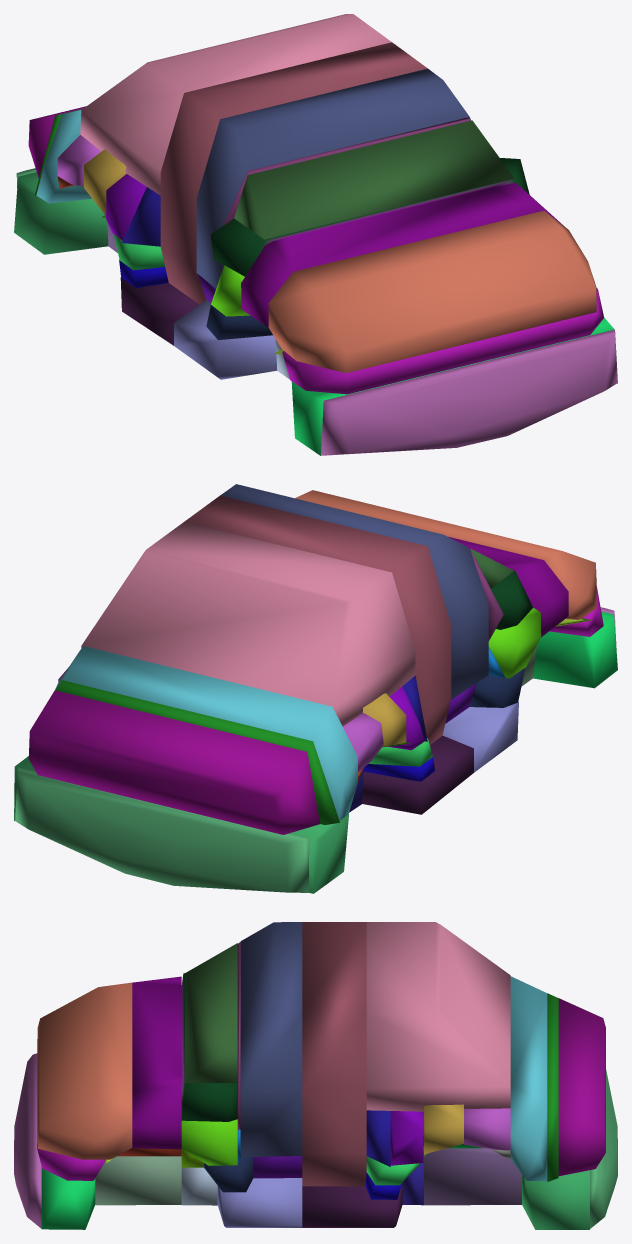
The model's file is sedan-sports-bodyandspoiler-output2-s.obj.
3 renders of one model, top to bottom at view 1: azimuth 30°, elevation 25°; view 2: azimuth 150°, elevation 25°; view 3: azimuth 270°, elevation 25°, orthographic. The views are drawn at different scales.
Size of the model in its own units: 1.41 by 0.9859 by 2.58.
